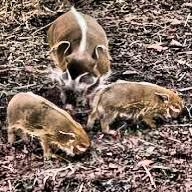boar: (0, 77, 85, 174), (85, 84, 189, 140), (53, 4, 105, 89)
